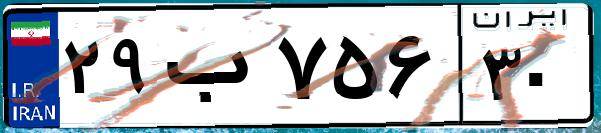0: (525, 38, 570, 115)
2: (57, 26, 110, 100)
3: (475, 38, 525, 113)
5: (330, 28, 385, 110)
6: (385, 28, 445, 110)
7: (270, 28, 330, 110)
9: (110, 28, 158, 98)
ب: (158, 20, 270, 120)
